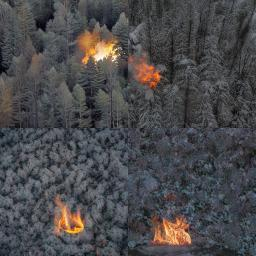Small fire: (64, 19, 167, 96)
